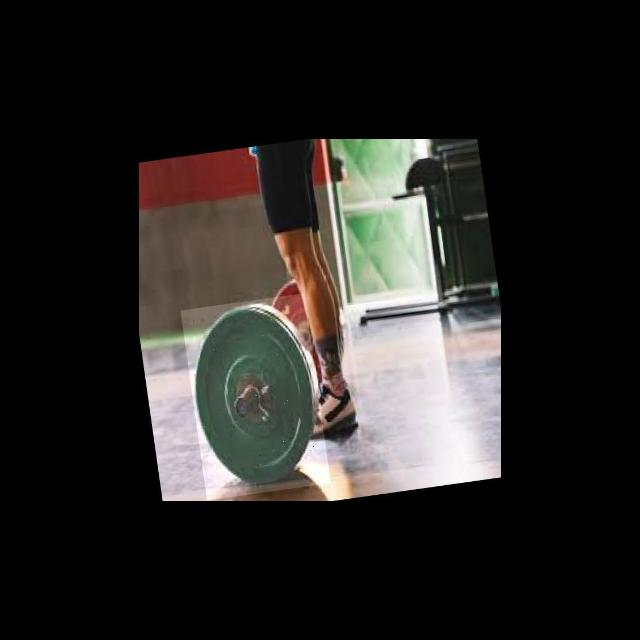barbell: (181, 293, 331, 500)
